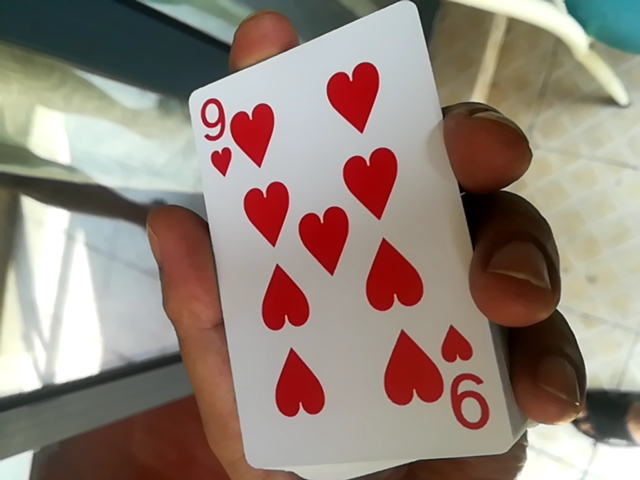hx 9: (196, 17, 491, 463)
